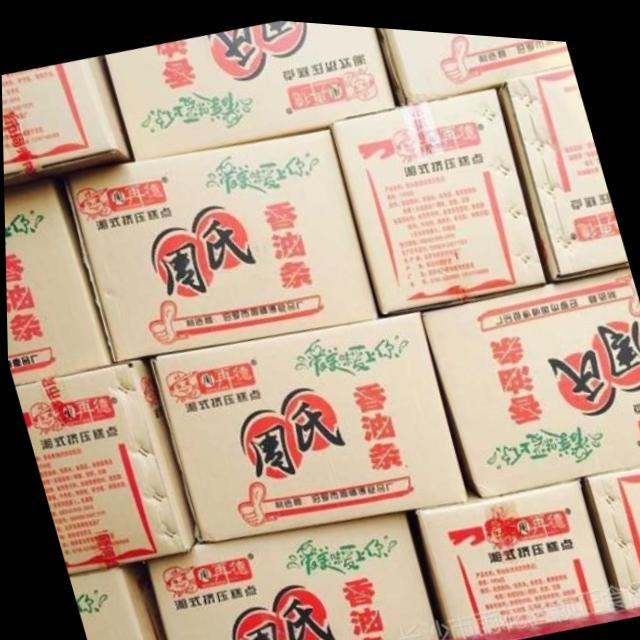box: (60, 123, 378, 363), (146, 306, 465, 540), (420, 256, 640, 490), (328, 79, 545, 309), (103, 16, 395, 157), (143, 505, 436, 640), (13, 355, 191, 574), (414, 470, 612, 631), (498, 57, 628, 272), (3, 175, 110, 386), (1, 53, 131, 184), (379, 22, 572, 98), (583, 455, 640, 601), (66, 558, 164, 640)
